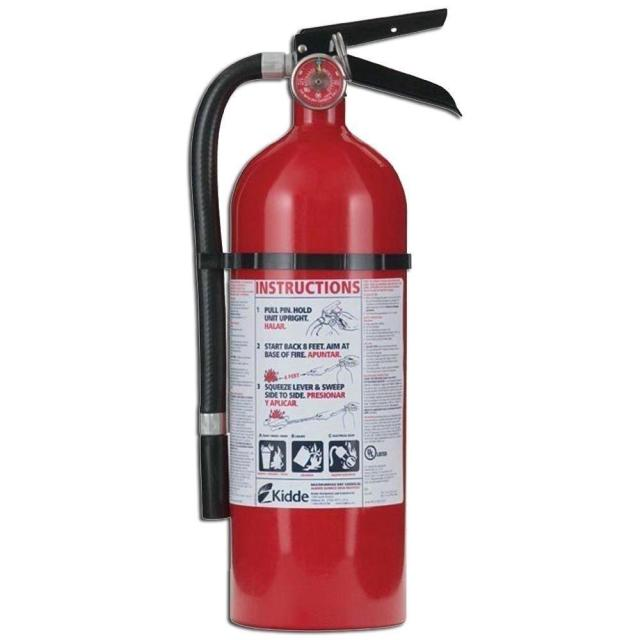fire_extinguisher: (180, 5, 466, 639)
